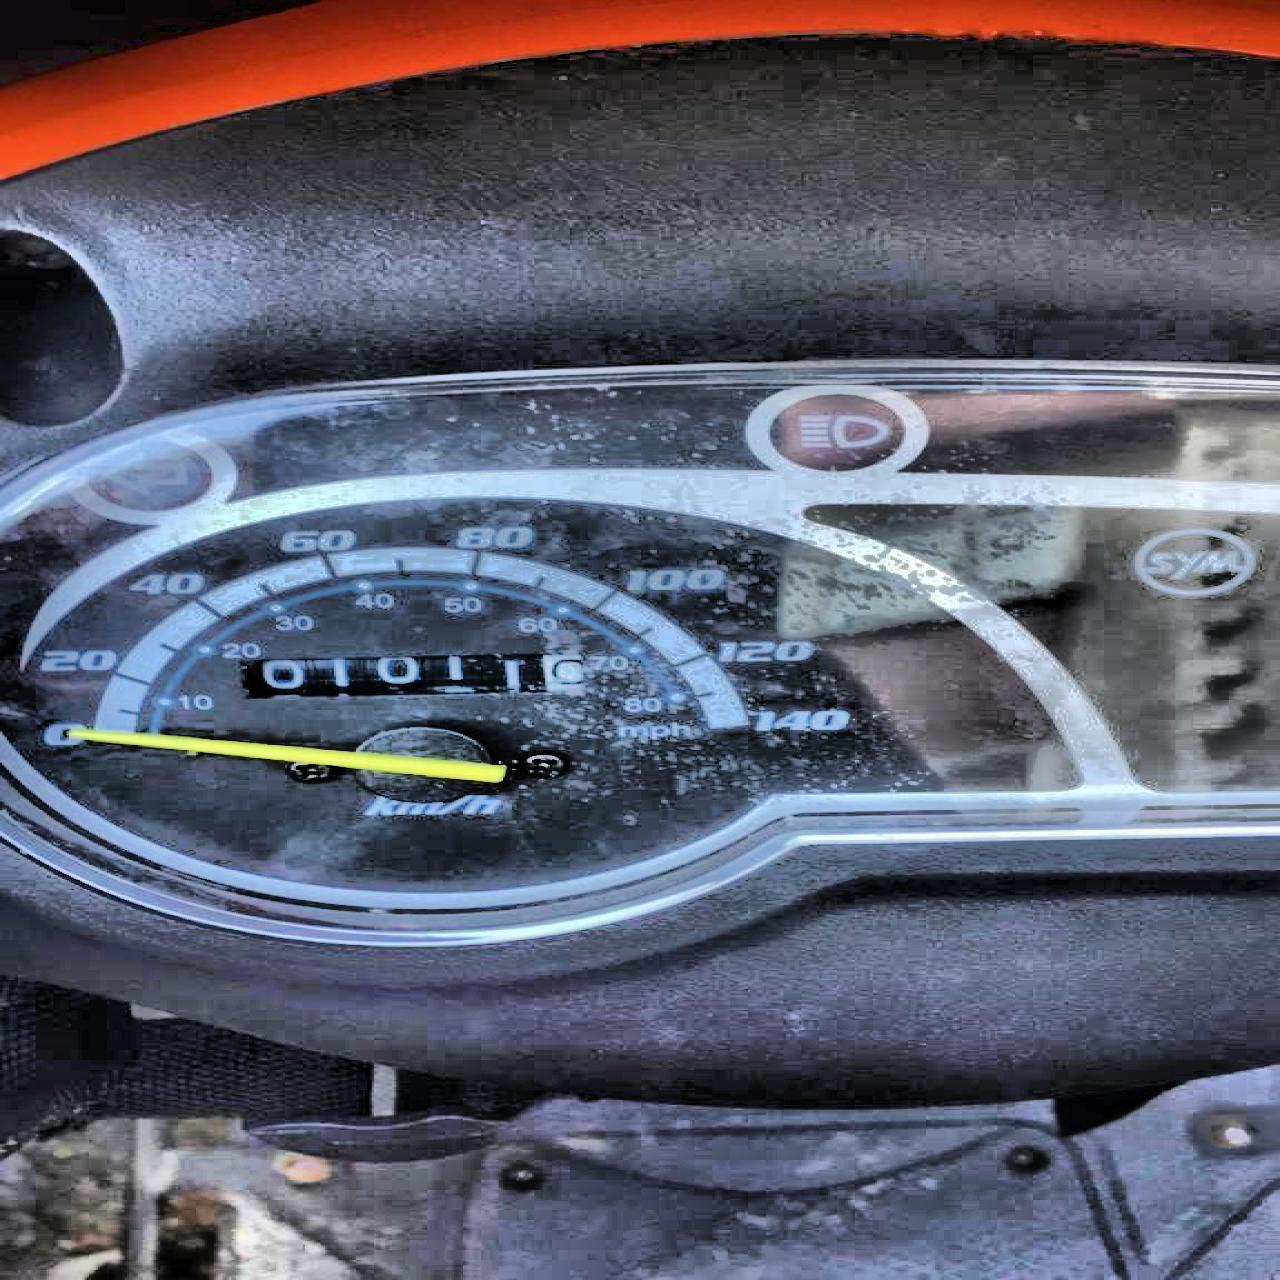0: (374, 653, 423, 686), (258, 656, 305, 689), (545, 654, 587, 686)
1: (322, 652, 356, 689), (496, 658, 530, 692), (438, 651, 468, 681)
odometer: (233, 647, 592, 699)
